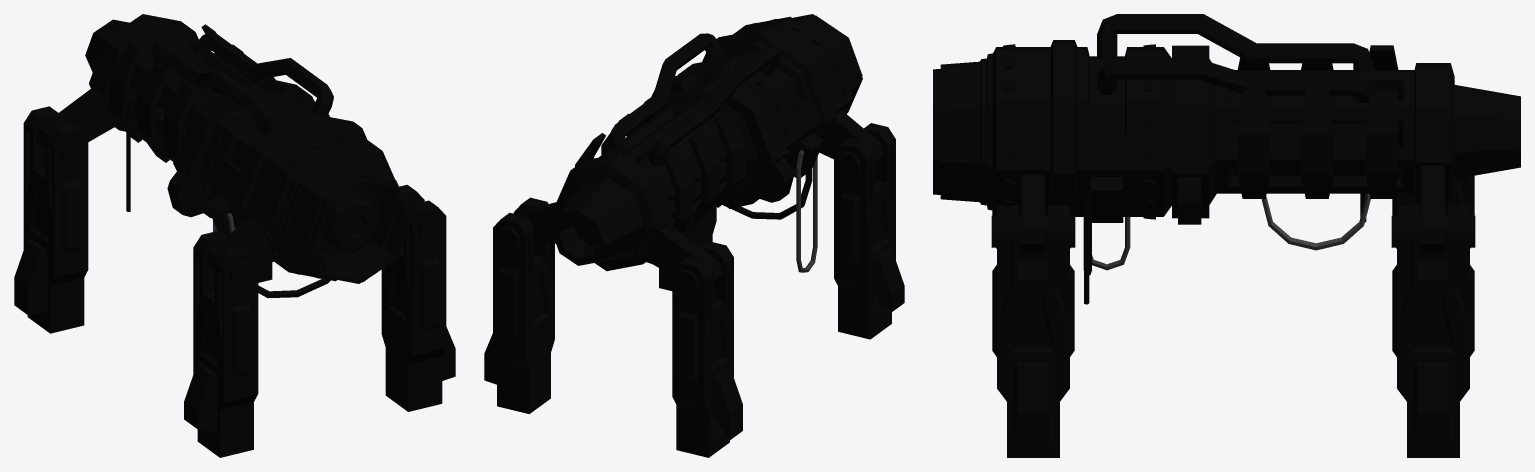
File: space_SM_Prop_Engine_Construction_01.gltf
The picture shows the model from 3 angles, left to right: view 1: azimuth 30°, elevation 25°; view 2: azimuth 150°, elevation 25°; view 3: azimuth 270°, elevation 25°; orthographic projection. The views are drawn at different scales.
Visible parts, largest first — view 1: SM_Prop_Engine_Construction_01; view 2: SM_Prop_Engine_Construction_01; view 3: SM_Prop_Engine_Construction_01.
Boxes of the visible parts, x1,y1,x2,y2 form: SM_Prop_Engine_Construction_01: [14, 14, 455, 457]; SM_Prop_Engine_Construction_01: [484, 14, 904, 457]; SM_Prop_Engine_Construction_01: [933, 14, 1520, 457].
Size of the model in its own units: 1.52 by 1.73 by 2.55.
1 material, 1 textured.
